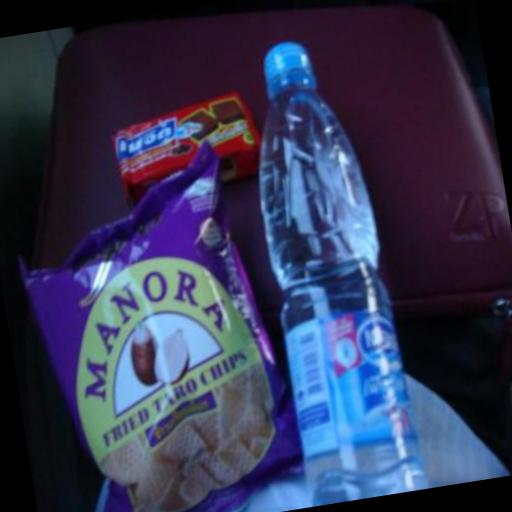Coca: (224, 16, 433, 508)
